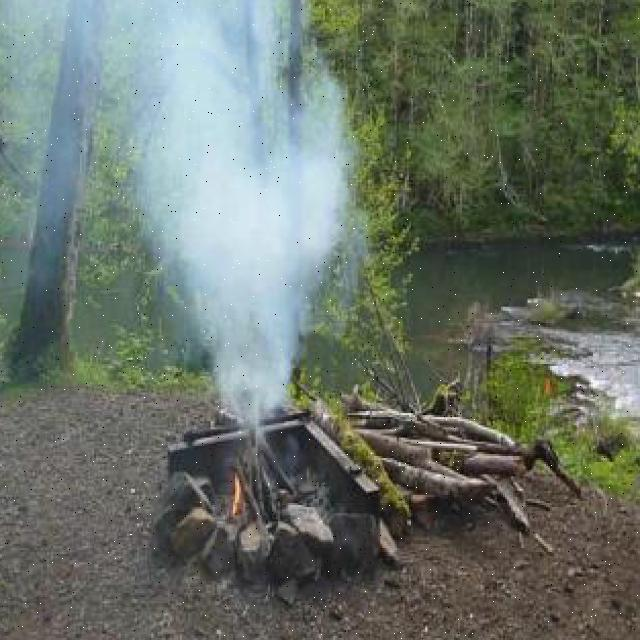fire: (227, 466, 247, 524)
smoke: (157, 0, 360, 425)
